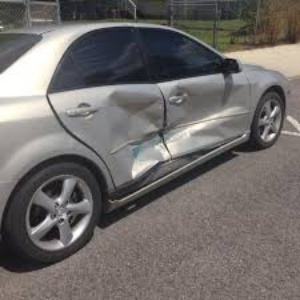door: (92, 91, 241, 149)
